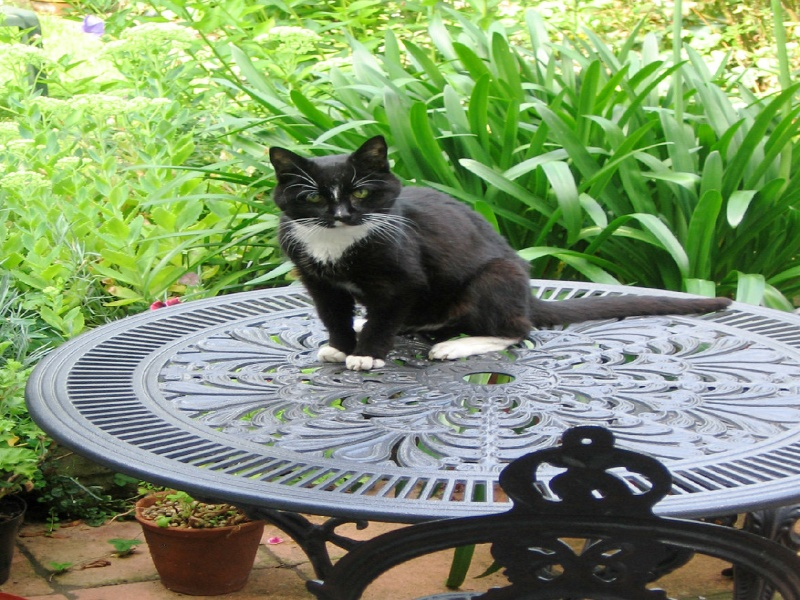cat: (258, 130, 744, 370)
